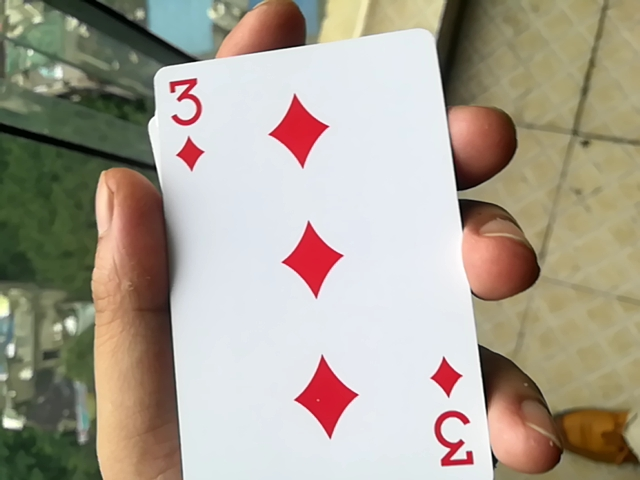fk 3: (121, 25, 500, 474)
